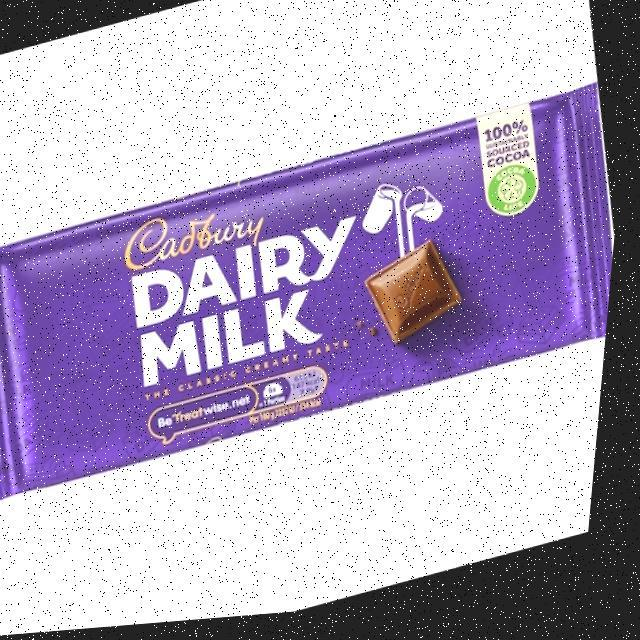cadbury_chocolate: (3, 88, 595, 515)
